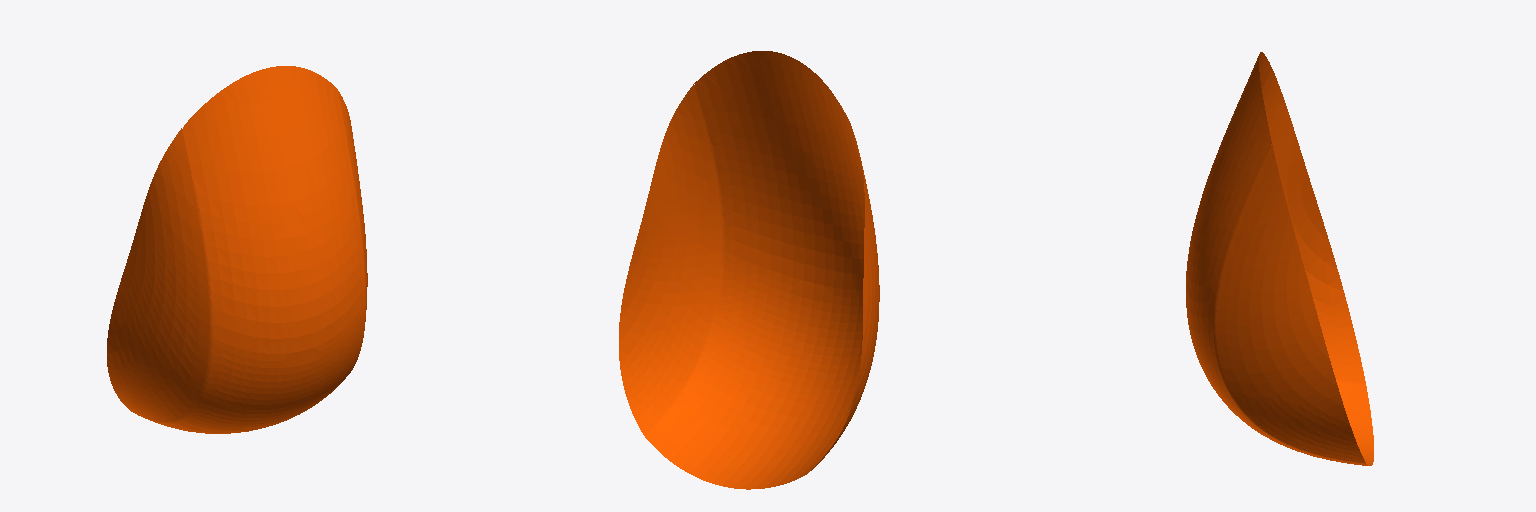
File: link_4_orange.obj
3 renders of one model, left to right at view 1: azimuth 30°, elevation 25°; view 2: azimuth 150°, elevation 25°; view 3: azimuth 270°, elevation 25°, orthographic.
Bounding box in the file's own units: 0.1242 × 0.1941 × 0.0849.